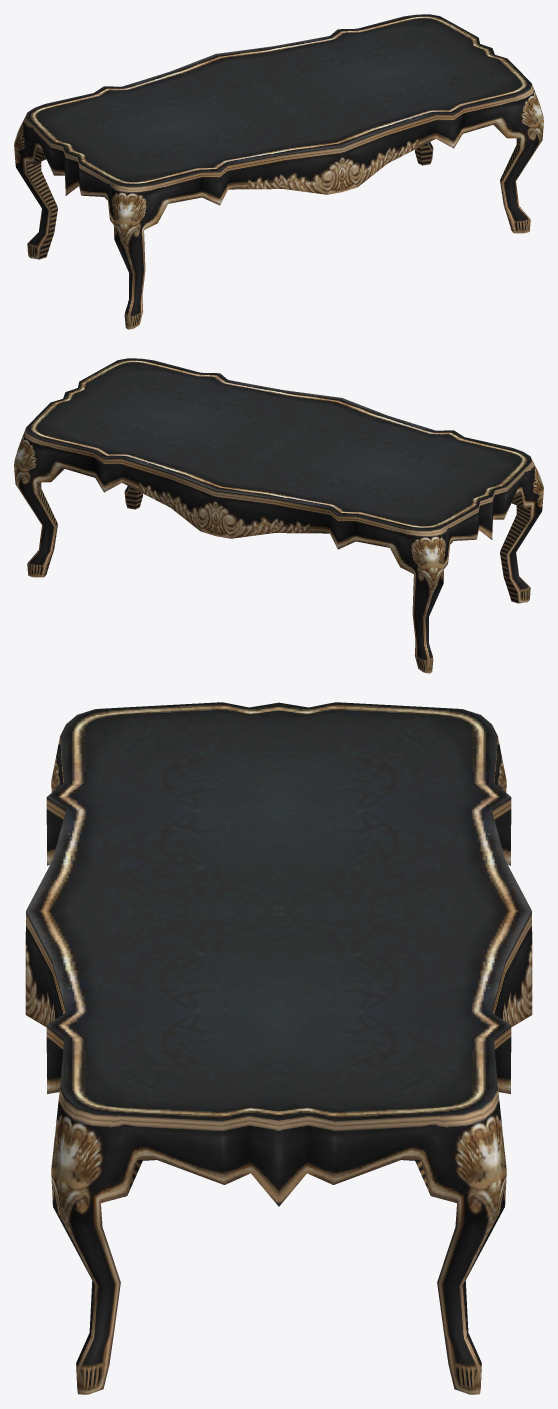
File: furni_0200307.FBX
3 views of the same model, one above another, from view 1: azimuth 30°, elevation 25°; view 2: azimuth 150°, elevation 25°; view 3: azimuth 270°, elevation 25° (orthographic). The views are drawn at different scales.
Parts seen in each view (by area): view 1: furni_0200307; view 2: furni_0200307; view 3: furni_0200307.
Part boxes in pixels (x1=…): furni_0200307: x1=14, y1=14, x2=543, y2=329; furni_0200307: x1=14, y1=358, x2=543, y2=673; furni_0200307: x1=25, y1=702, x2=532, y2=1394.
Bounding box in the file's own units: 156 × 49.8 × 79.51.
Materials: 1 (1 with a texture image).
